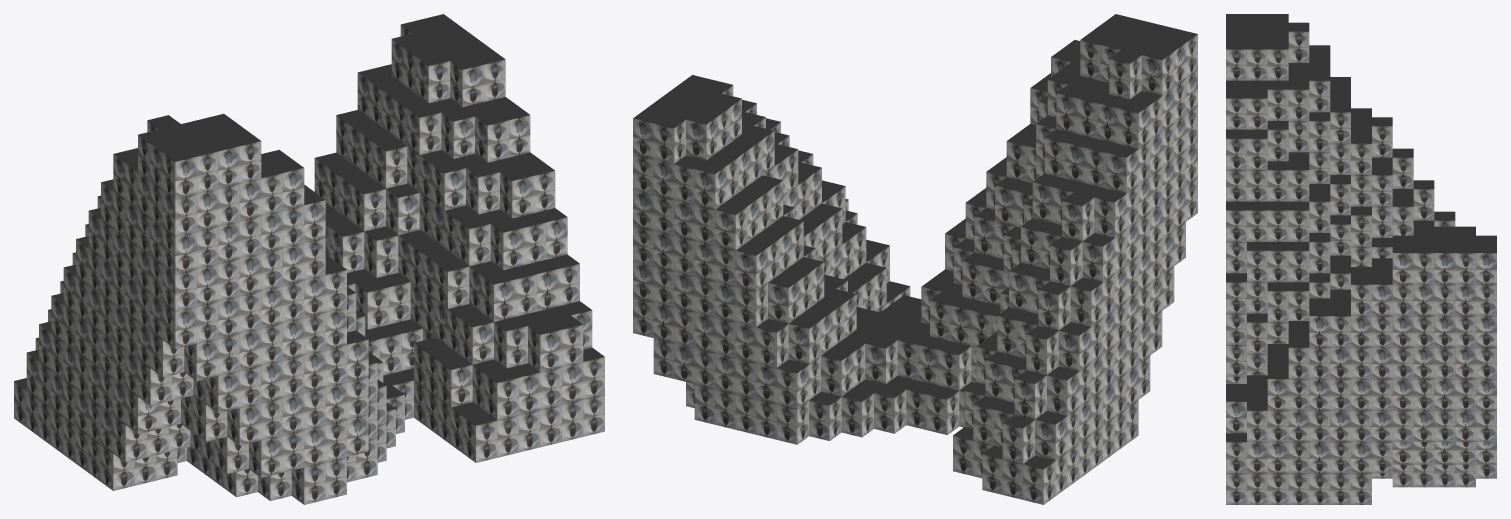
The model's file is archweekend_1_5.glb.
The picture shows the model from 3 angles, left to right: view 1: azimuth 30°, elevation 25°; view 2: azimuth 150°, elevation 25°; view 3: azimuth 270°, elevation 25°; orthographic projection. The views are drawn at different scales.
Parts seen in each view (by area): view 1: house-4.001; view 2: house-4.001; view 3: house-4.001.
Boxes of the visible parts, left/top/right/bottom form: house-4.001: left=14, top=14, right=604, bottom=504; house-4.001: left=633, top=14, right=1197, bottom=504; house-4.001: left=1226, top=14, right=1496, bottom=504.
Bounding box in the file's own units: 60 × 50 × 39.
Materials: 3 (2 with a texture image).
